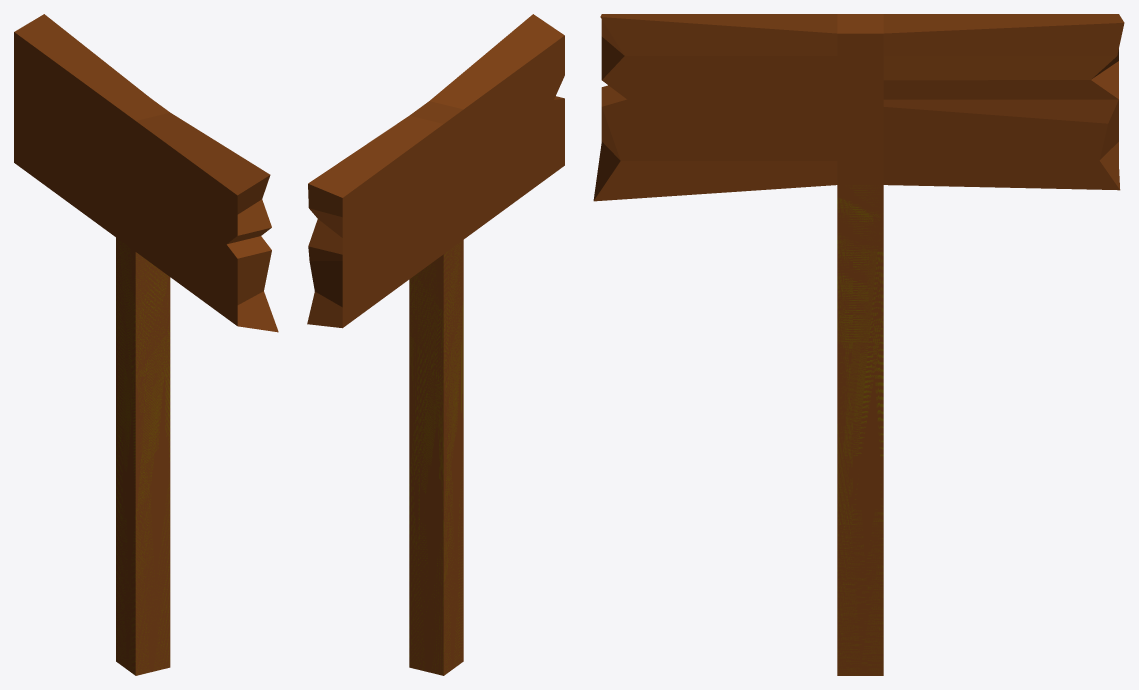
The model's file is Sign.fbx.
3 views of the same model, side by side, from view 1: azimuth 30°, elevation 25°; view 2: azimuth 150°, elevation 25°; view 3: azimuth 270°, elevation 25° (orthographic). The views are drawn at different scales.
Visible parts, largest first — view 1: Cube; view 2: Cube; view 3: Cube.
Part boxes in pixels (x1,y1,x2,y2): Cube: [14, 14, 278, 675]; Cube: [307, 14, 564, 675]; Cube: [593, 14, 1124, 675].
Bounding box in the file's own units: 34.71 × 496 × 363.
